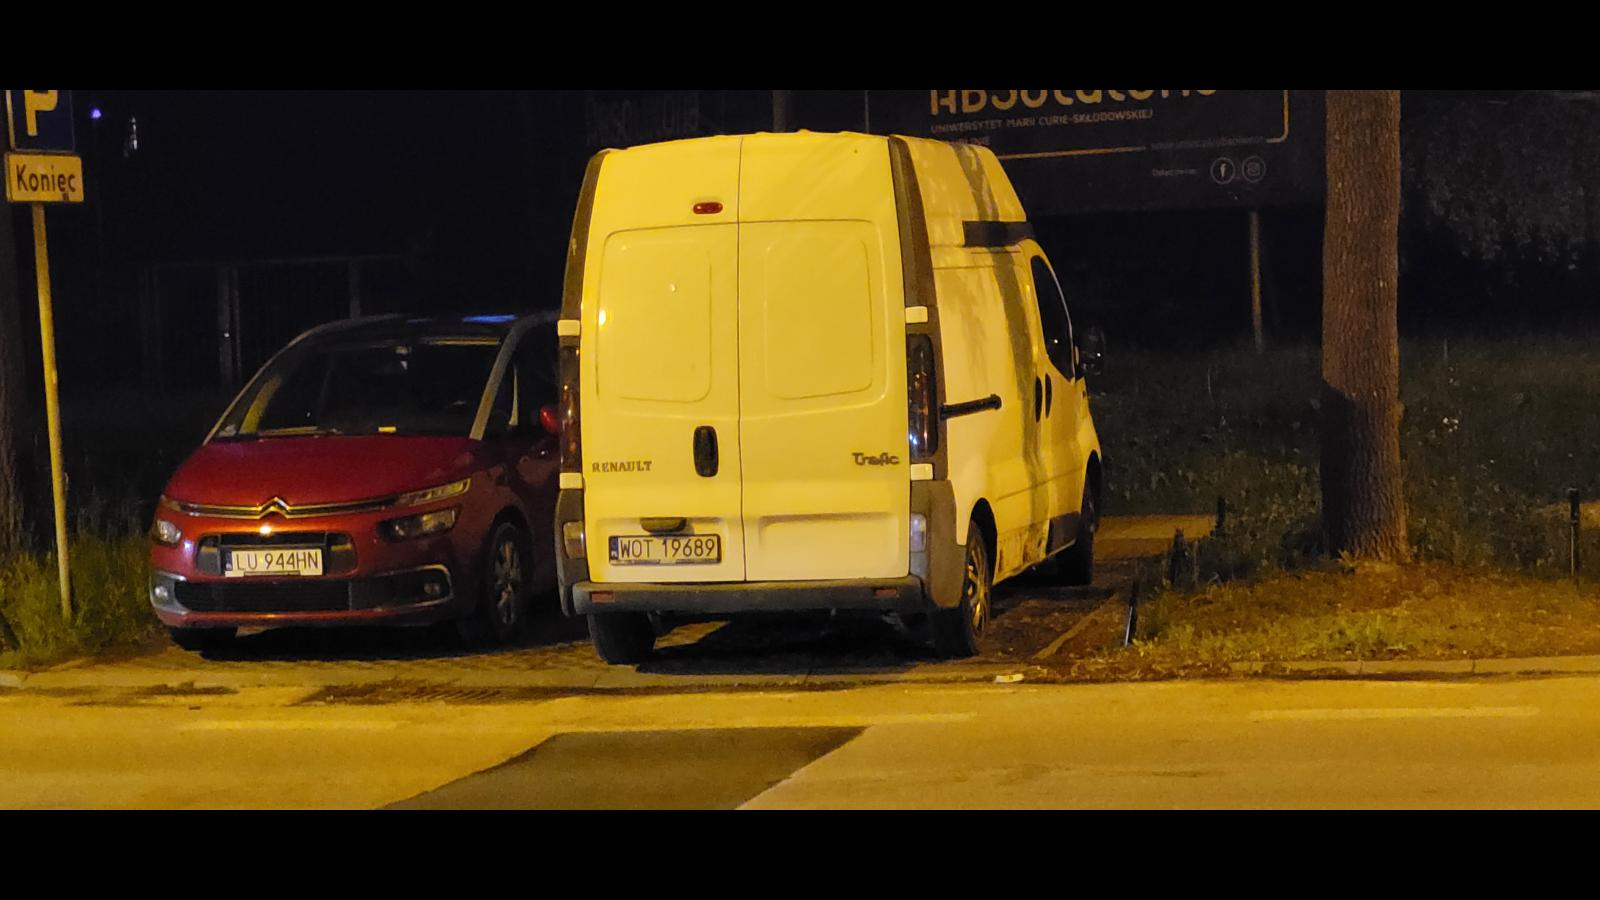plates: (609, 534, 719, 564), (224, 548, 324, 576)
